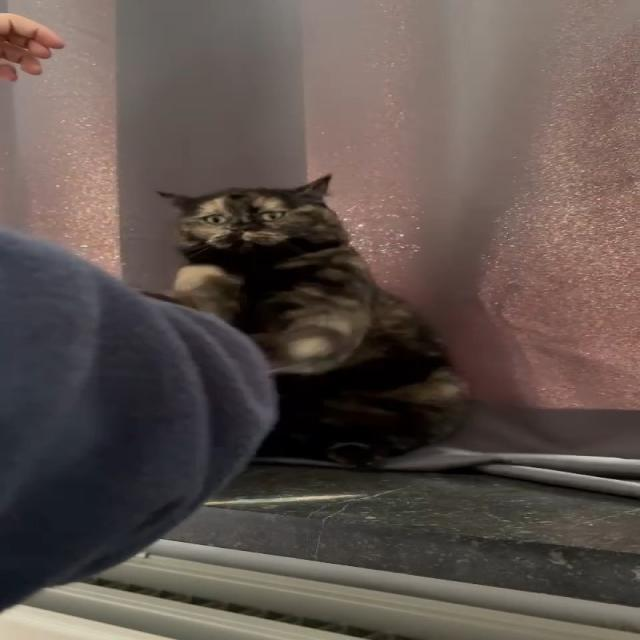authorized: (153, 172, 471, 469)
